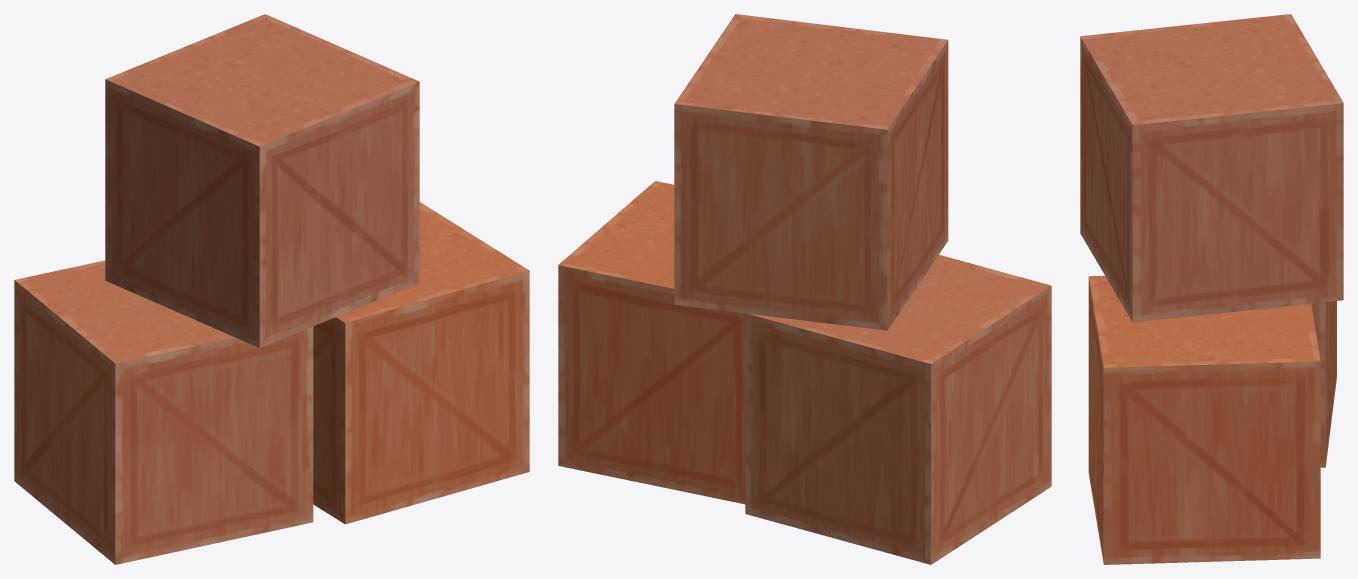
File: stack_crates_low.fbx
3 renders of one model, left to right at view 1: azimuth 30°, elevation 25°; view 2: azimuth 150°, elevation 25°; view 3: azimuth 270°, elevation 25°, orthographic. The views are drawn at different scales.
Visible parts, largest first — view 1: stack_crates; view 2: stack_crates; view 3: stack_crates.
Part boxes in pixels (bbox=[...]): stack_crates: bbox=[14, 14, 529, 564]; stack_crates: bbox=[558, 14, 1051, 564]; stack_crates: bbox=[1080, 14, 1343, 564].
Size of the model in its own units: 6.33 by 6 by 3.64.
1 material, 1 textured.
